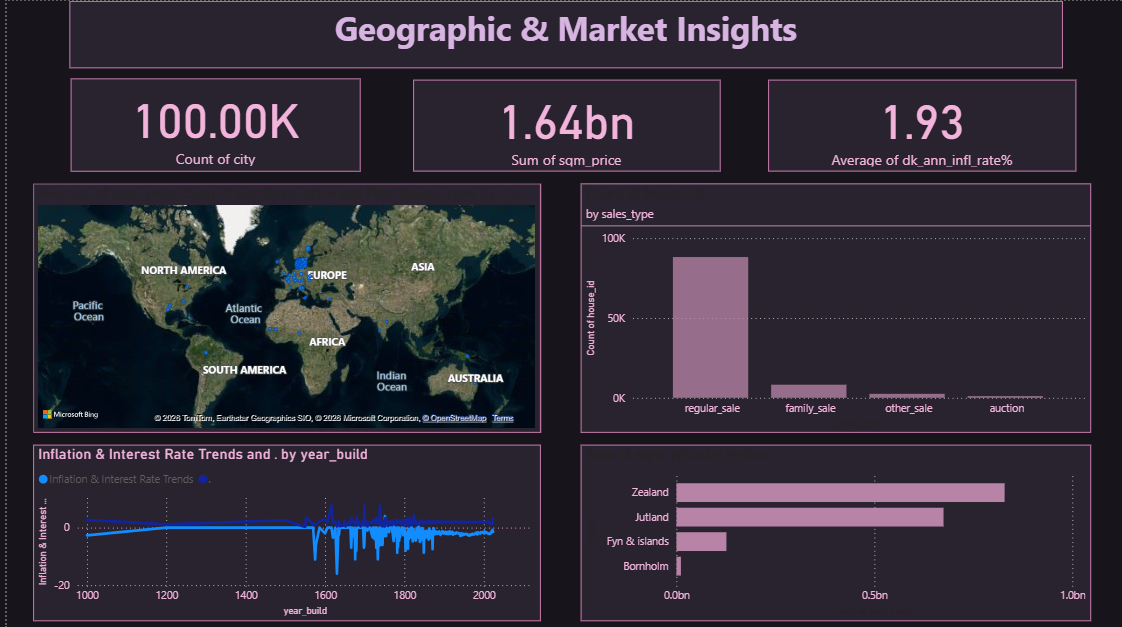

The dashboard page shown, as its layout file describes it:
{"tool":"powerbi","page":{"name":"Page 2","canvas":[1280,720],"ordinal":1},"visuals":[{"type":"textbox","box":[71.7,0,1135,76.7],"z":0},{"type":"map","fields":{"Category":["Housing_Data.city"],"Size":["Avg(Housing_Data.sqm_price)"]},"box":[30.6,207.9,579.6,284.9],"z":1000},{"type":"clusteredBarChart","fields":{"Category":["Housing_Data.region"],"Y":["Sum(Housing_Data.sqm_price)"]},"box":[655.4,507.5,583.3,201.8],"z":2000},{"type":"lineChart","fields":{"Category":["Housing_Data.year_build"],"Y":["Avg(Housing_Data.%_change_between_offer_and_purchase)","Avg(Housing_Data.dk_ann_infl_rate%)"]},"box":[30.6,507.5,579.6,201.8],"z":3000},{"type":"clusteredColumnChart","fields":{"Category":["Housing_Data.sales_type"],"Y":["CountNonNull(Housing_Data.house_id)"]},"box":[655.4,207.9,583.3,284.9],"z":4000},{"type":"card","fields":{"Values":["CountNonNull(Housing_Data.city)"]},"box":[72.1,89.3,331.4,106.4],"z":5000},{"type":"card","fields":{"Values":["Sum(Housing_Data.sqm_price)"]},"box":[464.7,90.5,351,105.2],"z":6000},{"type":"card","fields":{"Values":["Avg(Housing_Data.dk_ann_infl_rate%)"]},"box":[870.7,90.5,352.2,105.2],"z":7000}]}

Visuals, with their boxes in screenshot pixels (x1, y1, x2, y2), scaled from the page's 1280x720 canvas onto the 1122x627 screenshot:
textbox: [left=63, top=0, right=1058, bottom=67]
map - Housing_Data.city x Avg(Housing_Data.sqm_price): [left=27, top=181, right=535, bottom=429]
clusteredBarChart - Housing_Data.region x Sum(Housing_Data.sqm_price): [left=574, top=442, right=1086, bottom=618]
lineChart - Housing_Data.year_build x Avg(Housing_Data.%_change_between_offer_and_purchase): [left=27, top=442, right=535, bottom=618]
clusteredColumnChart - Housing_Data.sales_type x CountNonNull(Housing_Data.house_id): [left=574, top=181, right=1086, bottom=429]
card - CountNonNull(Housing_Data.city): [left=63, top=78, right=354, bottom=170]
card - Sum(Housing_Data.sqm_price): [left=407, top=79, right=715, bottom=170]
card - Avg(Housing_Data.dk_ann_infl_rate%): [left=763, top=79, right=1072, bottom=170]
